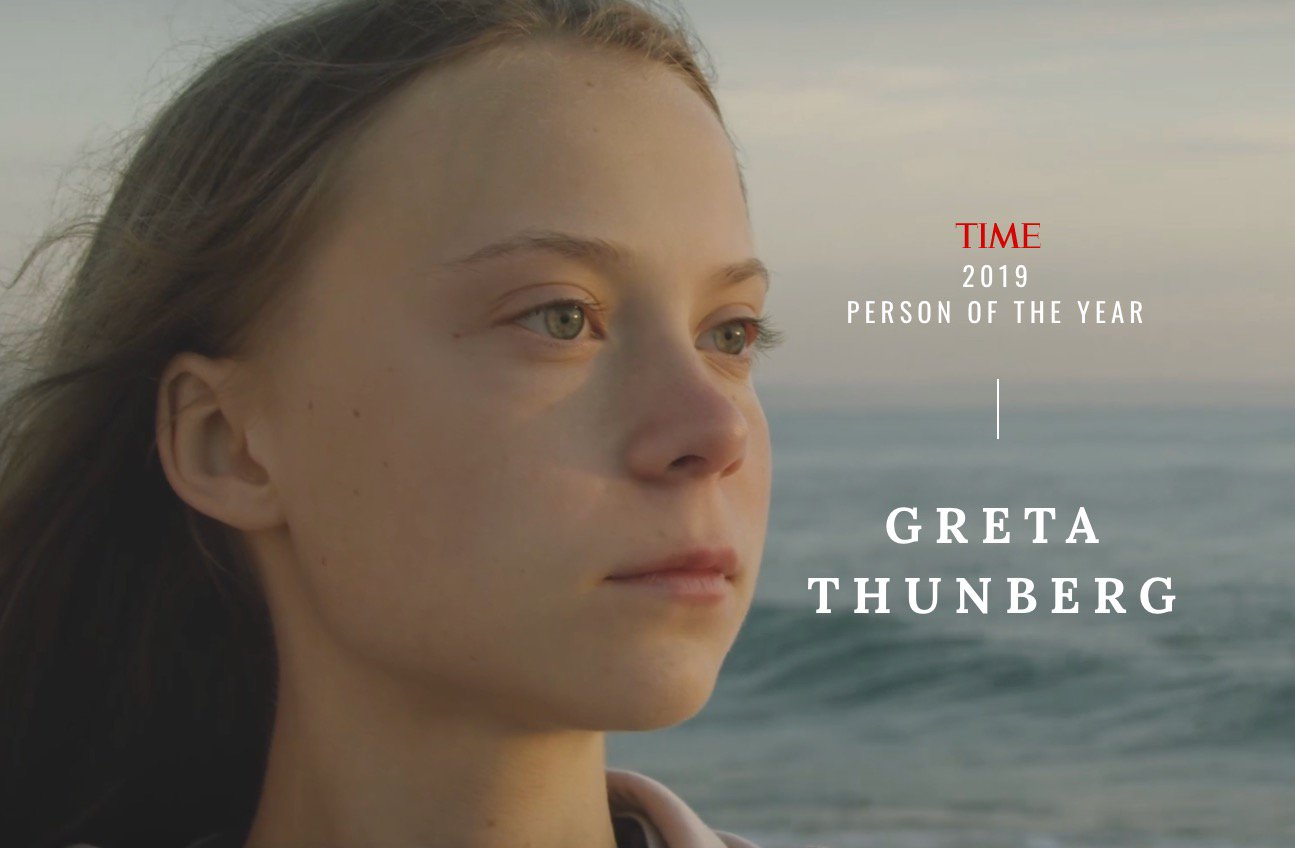noMask: (66, 14, 814, 717)
